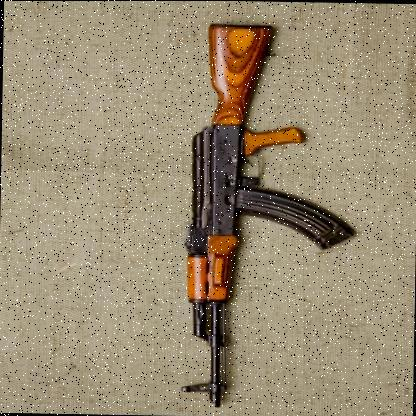rifle: (153, 16, 338, 411)
